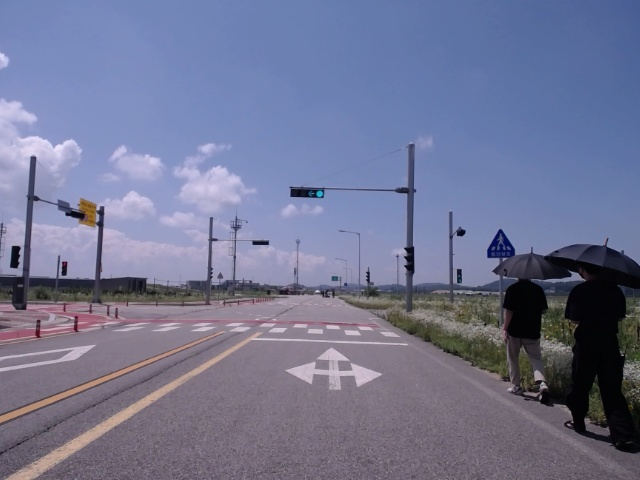all_green_4: (289, 186, 324, 197)
